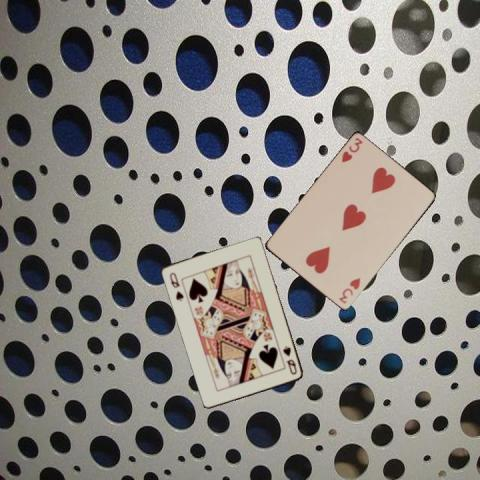3h: (336, 276, 362, 306), (339, 135, 364, 164)
Qs: (280, 343, 299, 376), (167, 269, 185, 302)
